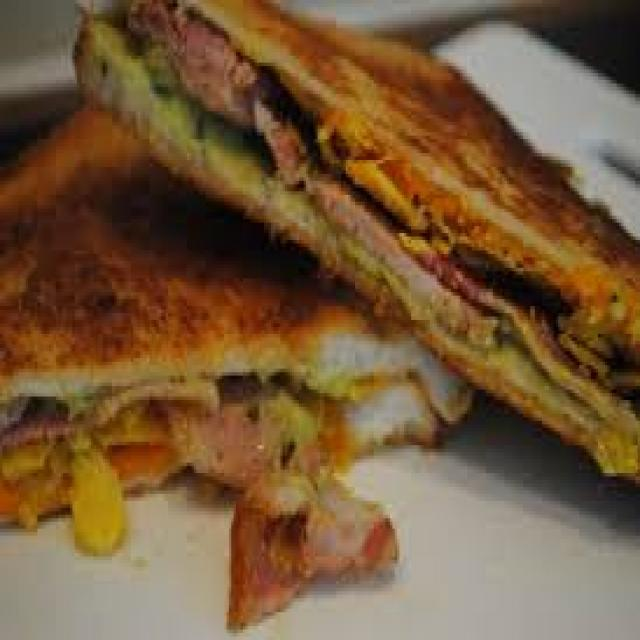organic waste: (70, 0, 638, 477), (0, 94, 472, 529), (222, 466, 395, 630), (166, 386, 327, 491), (68, 428, 121, 553)
